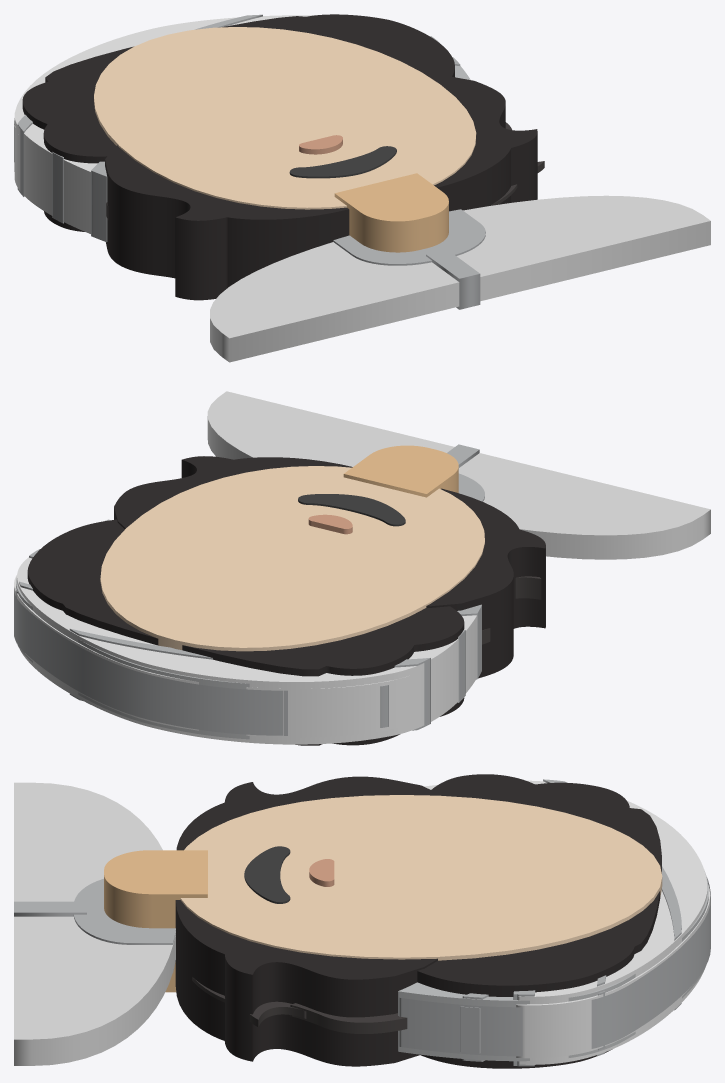
File: emoji_u1f473_1f3fb.glb
The picture shows the model from 3 angles, top to bottom: view 1: azimuth 30°, elevation 25°; view 2: azimuth 150°, elevation 25°; view 3: azimuth 270°, elevation 25°; orthographic projection. The views are drawn at different scales.
Parts seen in each view (by area): view 1: emoji_u1f473_1f3fb; view 2: emoji_u1f473_1f3fb; view 3: emoji_u1f473_1f3fb.
Boxes of the visible parts, bbox=[...] form: emoji_u1f473_1f3fb: bbox=[14, 14, 710, 362]; emoji_u1f473_1f3fb: bbox=[14, 391, 710, 745]; emoji_u1f473_1f3fb: bbox=[14, 774, 710, 1068].
Size of the model in its own units: 0.0292 by 0.0054 by 0.0334.
